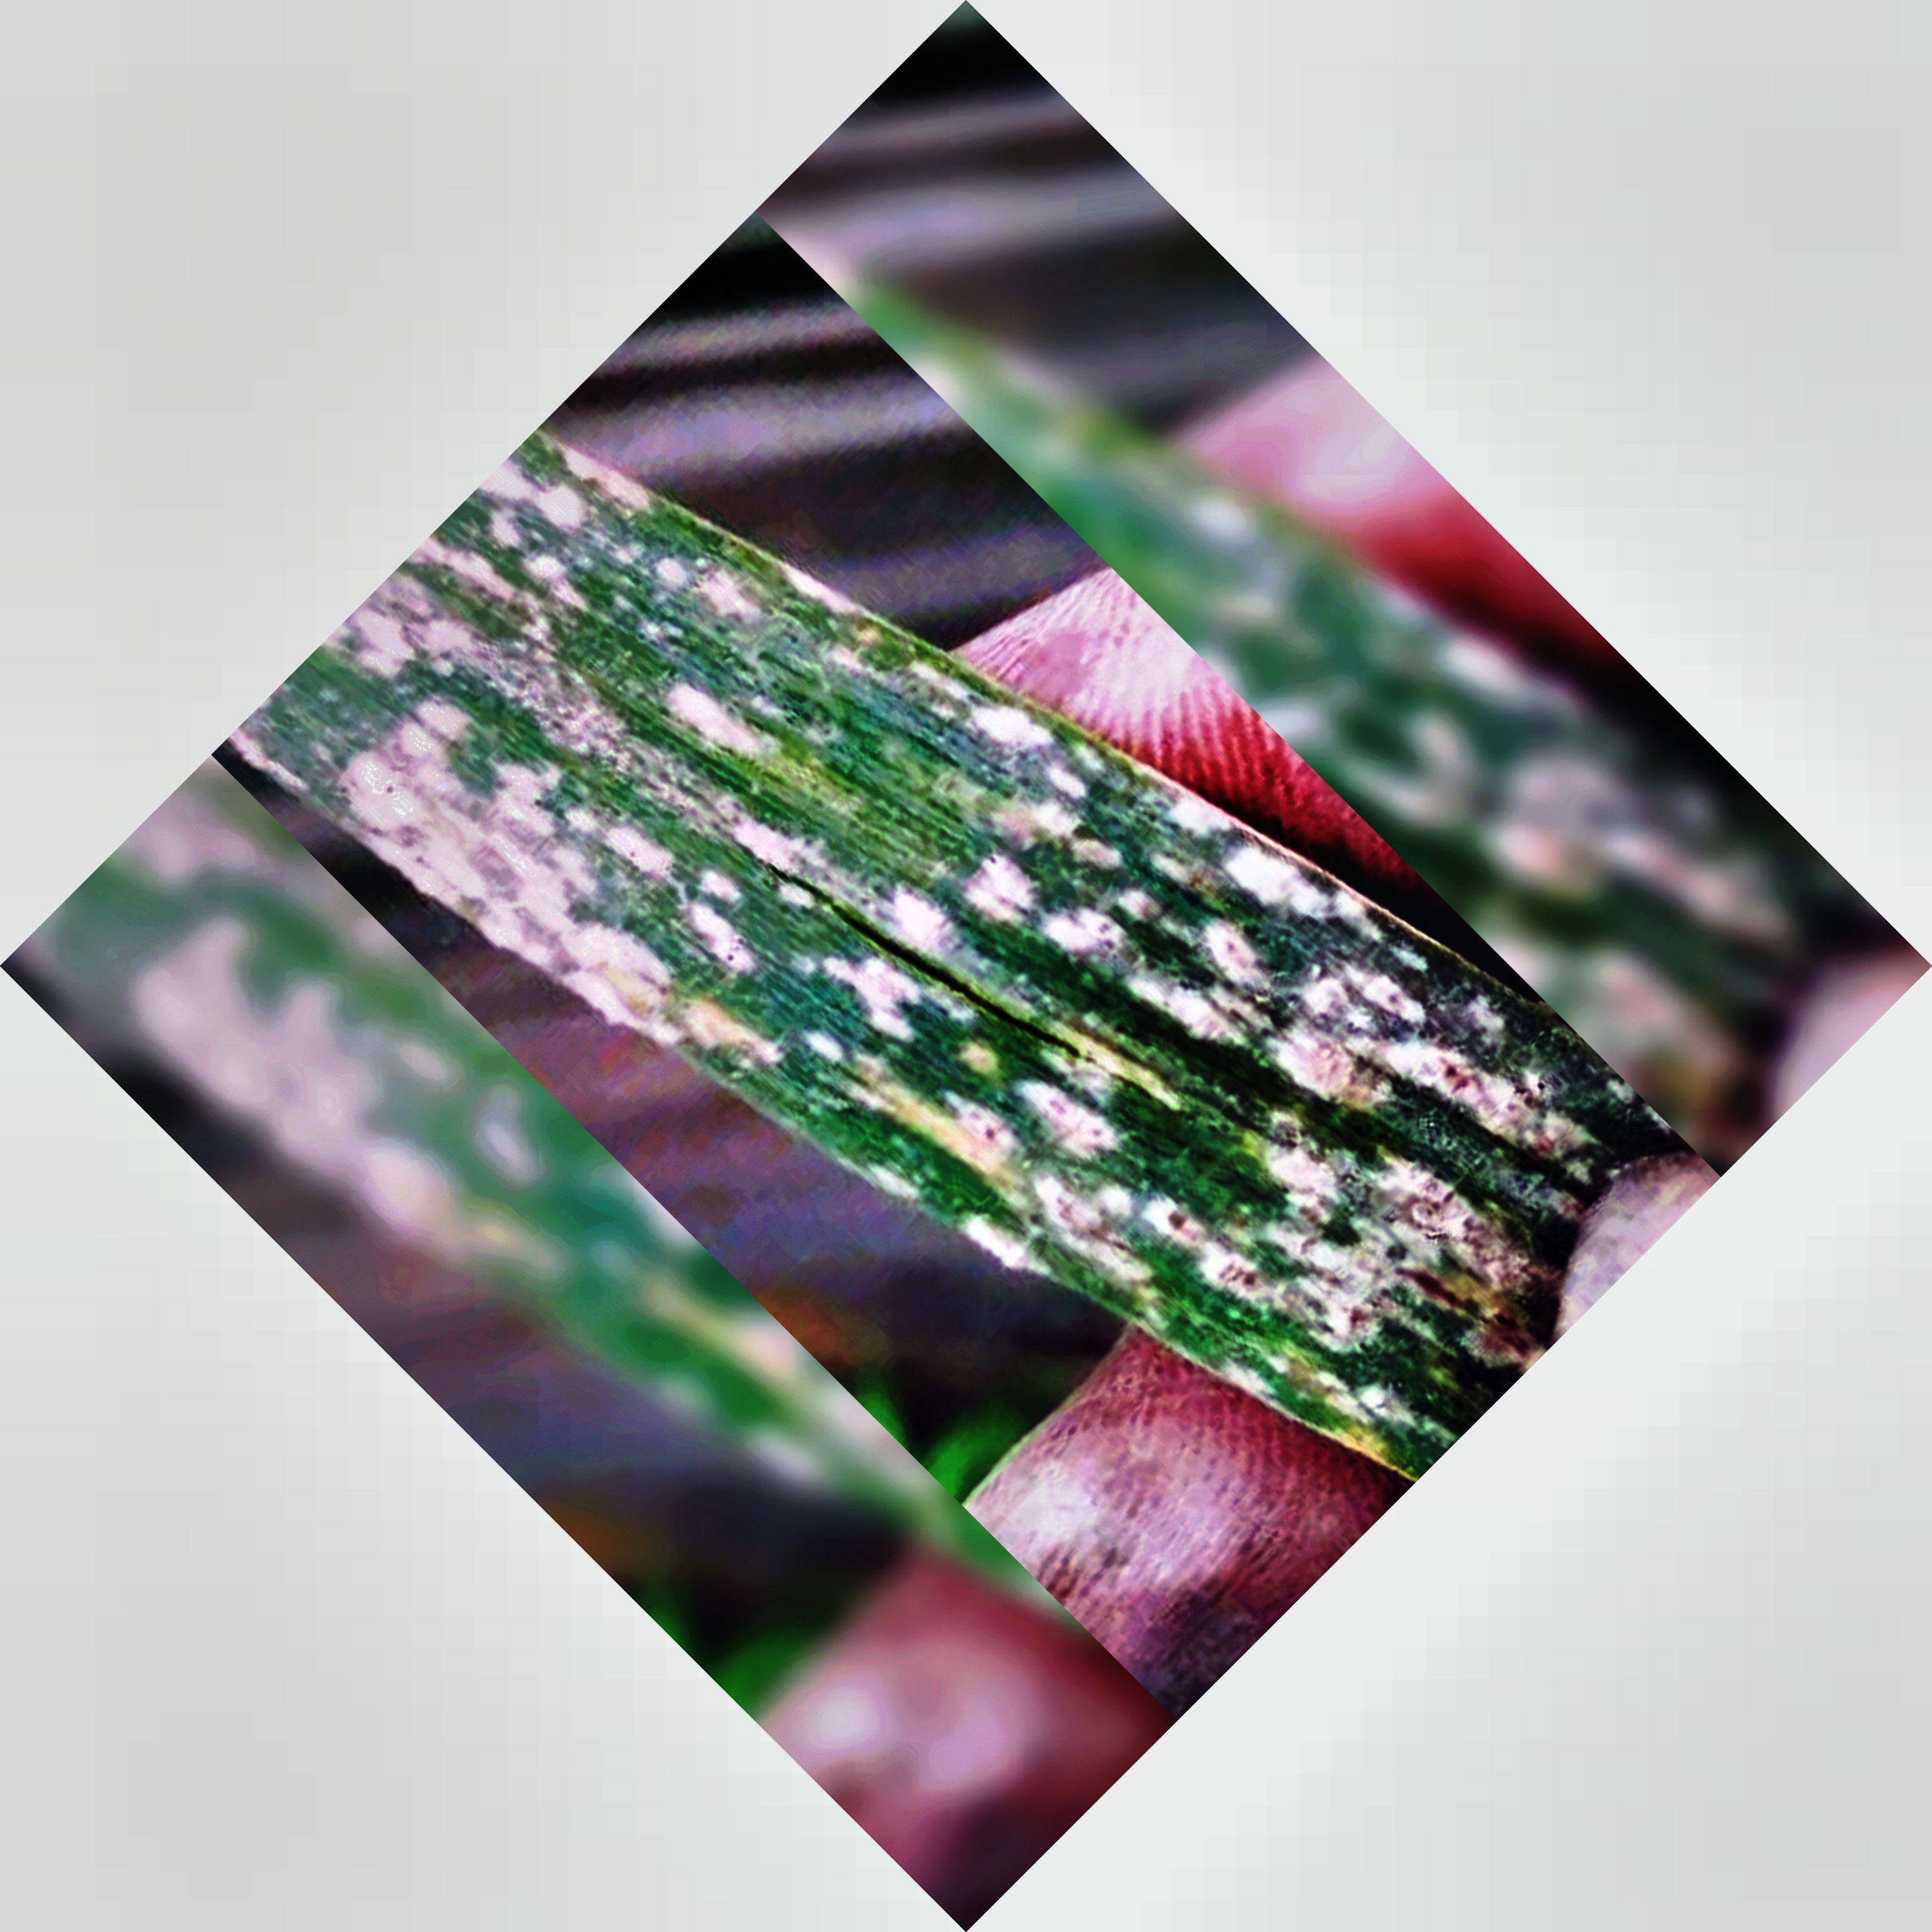Powdery Mildew: (416, 619, 1488, 1410)
